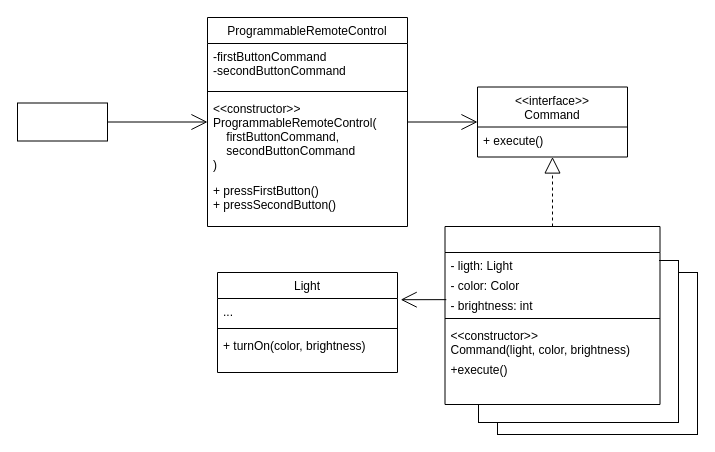
The diagram is 715 pixels wide and 452 high, and some of its shapes have lost their labels. The centre of each missing label's shape, as x and y in pixels:
"Client" goes at point (62, 121).
"TurnLightOnCommand" goes at point (552, 315).
